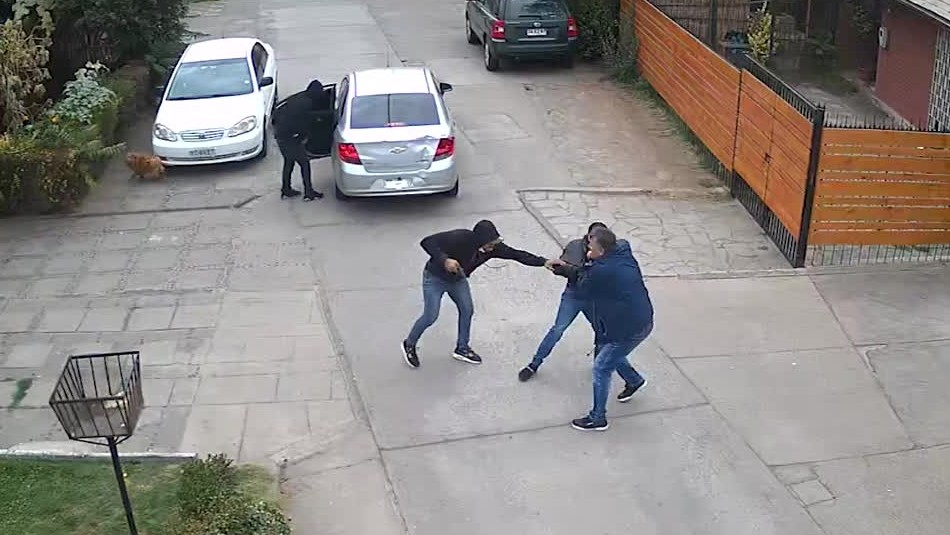Asalto: (458, 266, 465, 276)
